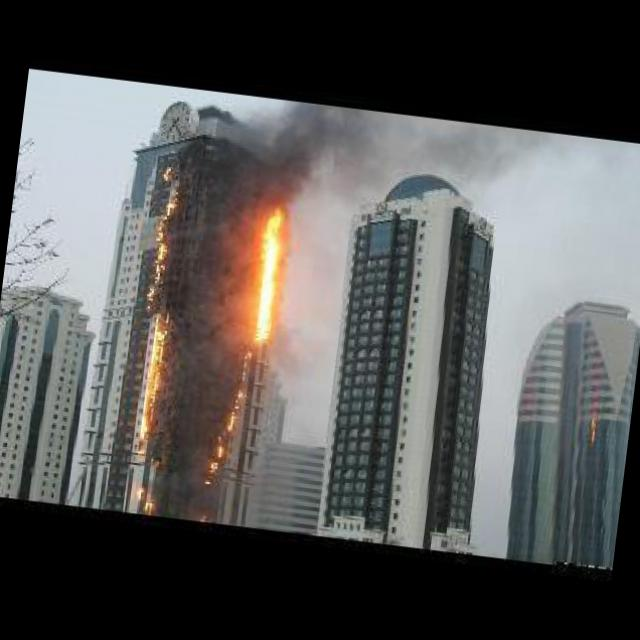fire: (118, 149, 196, 479), (241, 196, 314, 358), (228, 345, 252, 423), (204, 426, 230, 486), (131, 481, 158, 512)
smoke: (248, 94, 562, 230)
